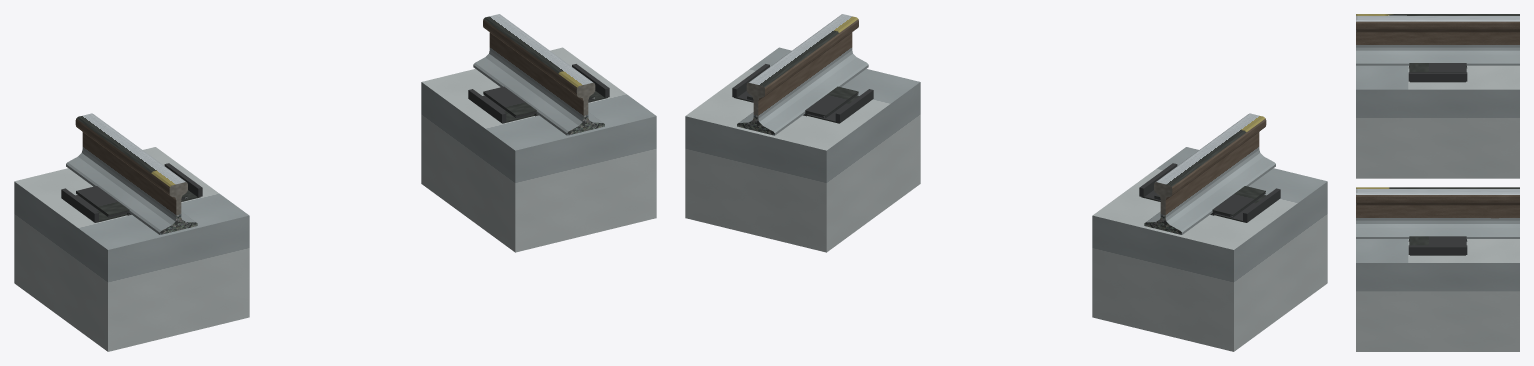
File: direct_low.obj
3 renders of one model, left to right at view 1: azimuth 30°, elevation 25°; view 2: azimuth 150°, elevation 25°; view 3: azimuth 270°, elevation 25°, orthographic. The views are drawn at different scales.
Visible parts, largest first — view 1: direct_bearer, rail_left, rail_right, fastener_left, fastener_right, rail_left_end, rail_right_end; view 2: direct_bearer, rail_left, rail_right, fastener_left, fastener_right, rail_left_end, rail_right_end; view 3: direct_bearer, rail_right, rail_left, fastener_right, fastener_left.
Boxes of the visible parts, x1,y1,x2,y2 form: direct_bearer: [14, 47, 656, 351]; rail_left: [66, 113, 195, 234]; rail_right: [473, 14, 602, 135]; fastener_left: [61, 163, 202, 222]; fastener_right: [468, 64, 609, 123]; rail_left_end: [160, 182, 197, 234]; rail_right_end: [567, 83, 604, 135]; direct_bearer: [685, 47, 1327, 351]; rail_left: [1146, 113, 1275, 234]; rail_right: [739, 14, 868, 135]; fastener_left: [1139, 163, 1280, 222]; fastener_right: [732, 64, 873, 123]; rail_left_end: [1144, 182, 1181, 234]; rail_right_end: [737, 83, 774, 135]; direct_bearer: [1356, 65, 1519, 351]; rail_right: [1356, 187, 1519, 238]; rail_left: [1356, 14, 1519, 65]; fastener_right: [1408, 236, 1467, 255]; fastener_left: [1408, 63, 1467, 82].
Bounding box in the file's own units: 2.03 × 0.5324 × 0.6.
